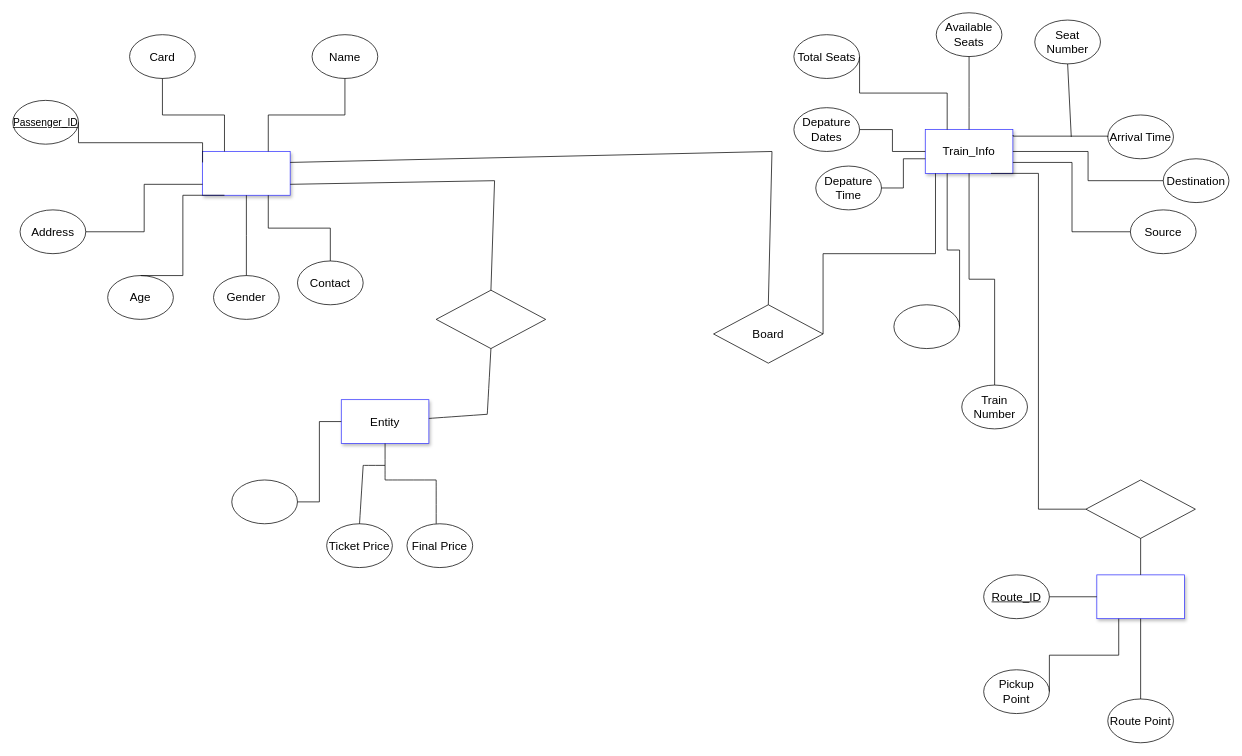
This 1242x756 diagram has some shape labels left out. Each missing label, with the centre of its shape:
Buys: (x=490, y=319)
Depature Location: (x=926, y=326)
Passenger: (x=247, y=174)
Route: (x=1141, y=597)
Ticket Number: (x=264, y=501)
Travel Through: (x=1140, y=508)
